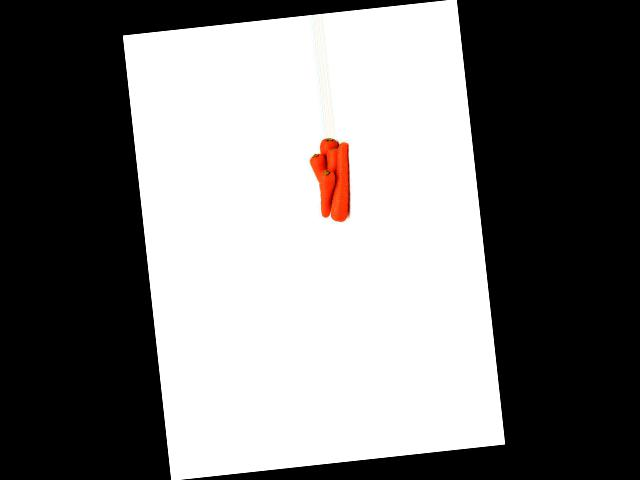carrot: (310, 151, 330, 186)
